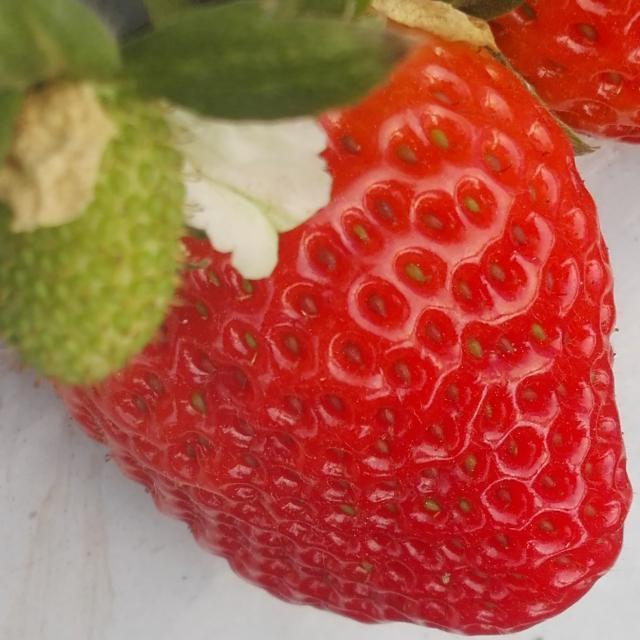Strawberry: (49, 22, 633, 636), (3, 64, 190, 396), (486, 0, 638, 146)
